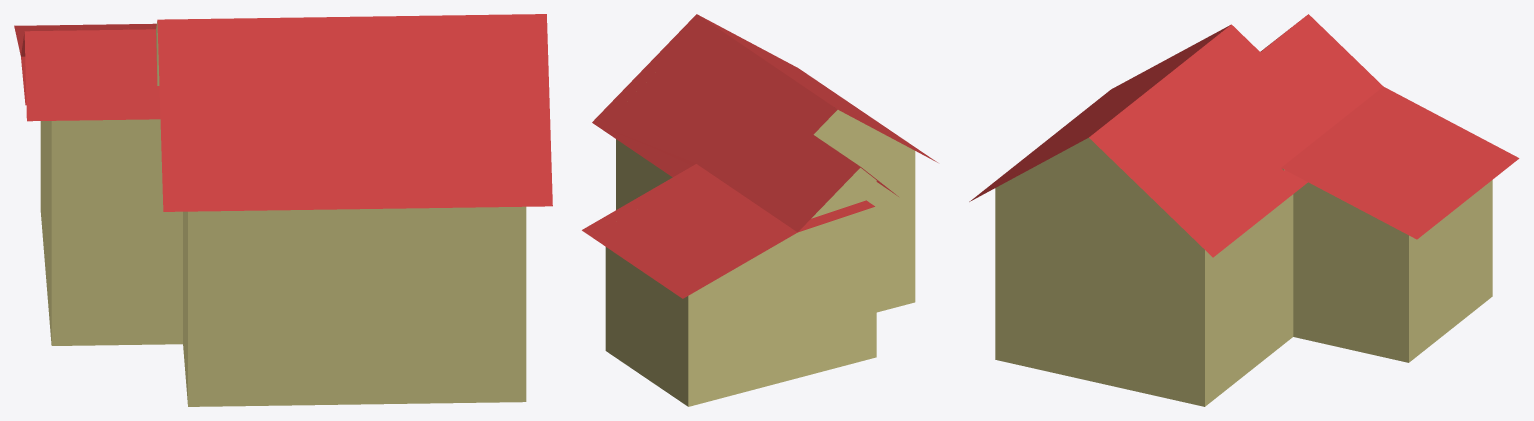
3 renders of one model, left to right at view 1: azimuth 30°, elevation 25°; view 2: azimuth 150°, elevation 25°; view 3: azimuth 270°, elevation 25°, orthographic. The views are drawn at different scales.
Size of the model in its own units: 16.37 by 20.78 by 10.51.
